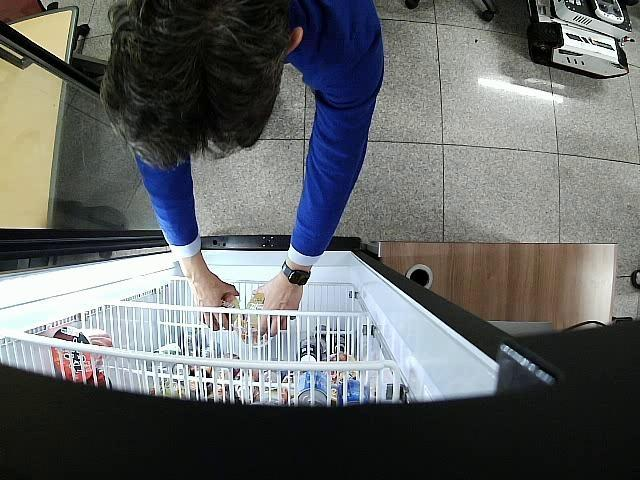04_chapagetti_S: (203, 294, 240, 326), (242, 292, 266, 326)
